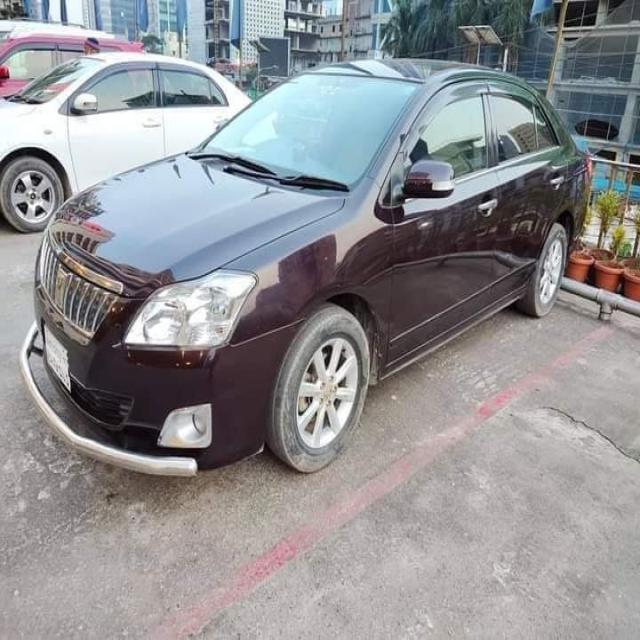maroon: (19, 88, 625, 453)
red: (0, 12, 125, 89)
white: (0, 62, 208, 176)
